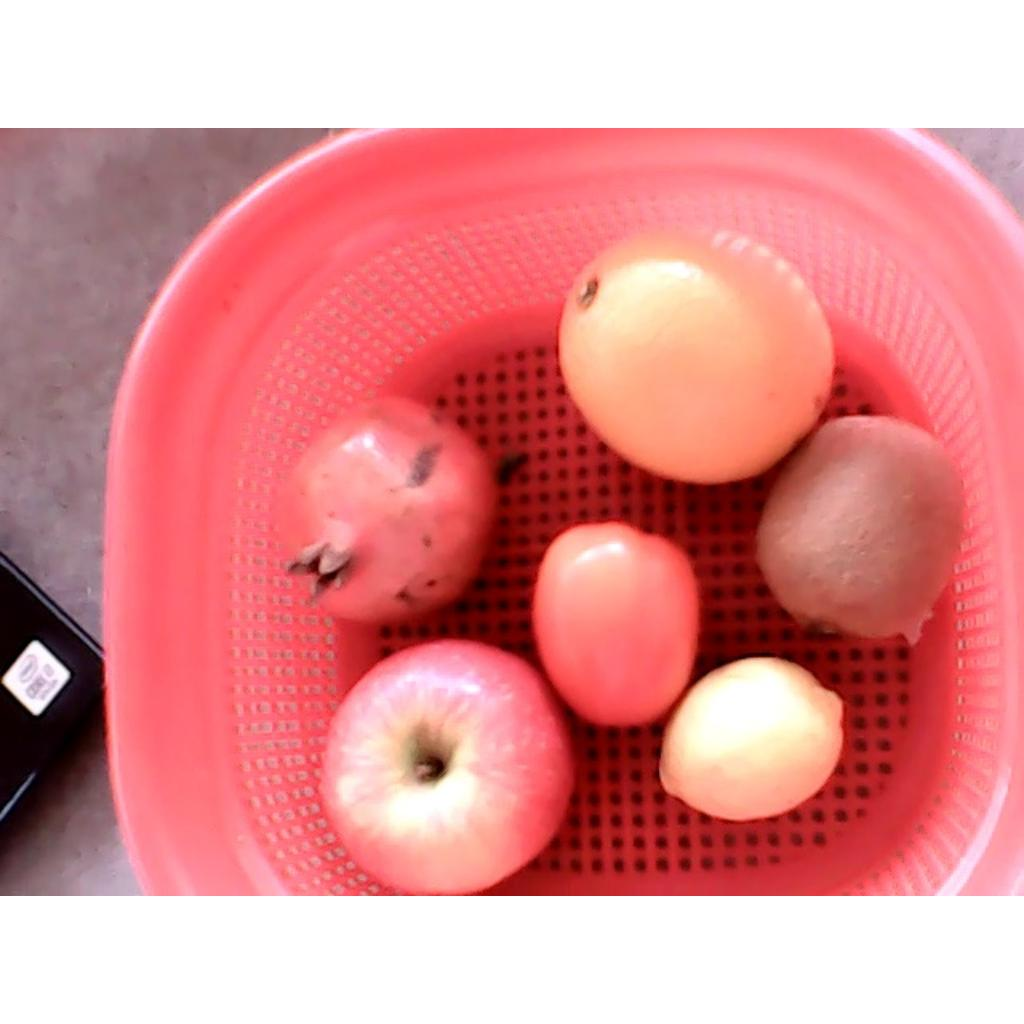apple: (318, 639, 575, 892)
kiwi: (756, 417, 964, 641)
lemon: (662, 656, 845, 820)
orange: (559, 224, 836, 483)
pomegranate: (282, 396, 495, 625)
tomato: (533, 524, 700, 725)
